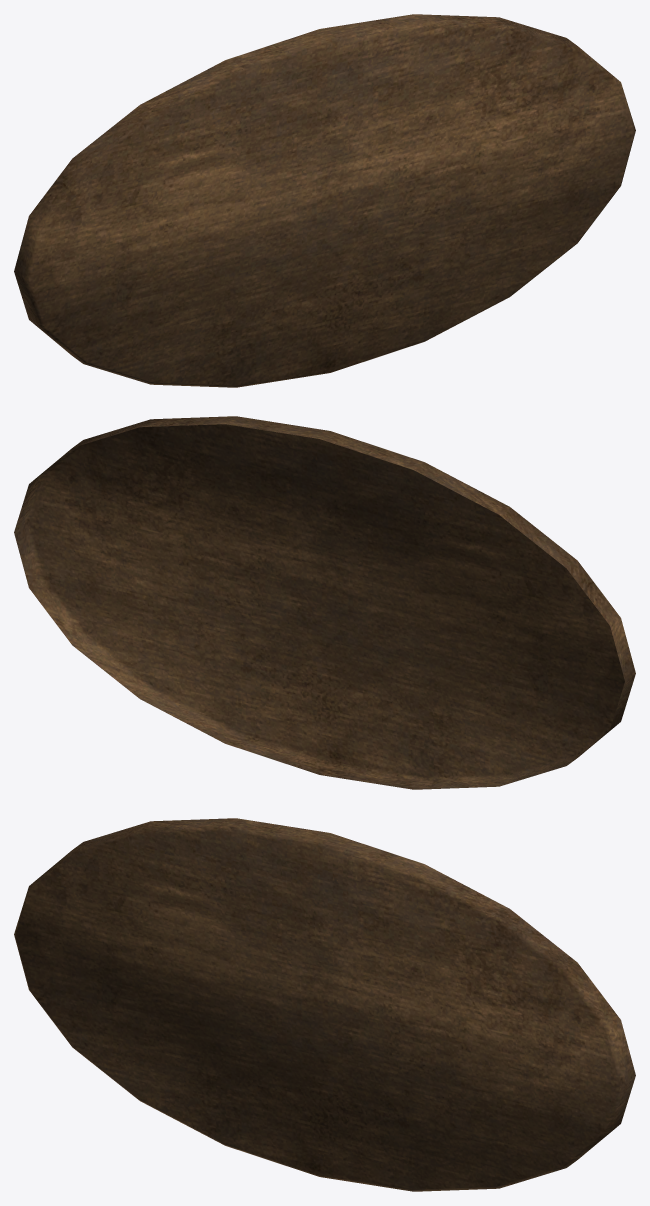
File: roomSignWood.FBX
The picture shows the model from 3 angles, top to bottom: view 1: azimuth 30°, elevation 25°; view 2: azimuth 150°, elevation 25°; view 3: azimuth 330°, elevation 25°; orthographic projection.
Visible parts, largest first — view 1: SM_RoomSignWood; view 2: SM_RoomSignWood; view 3: SM_RoomSignWood.
Part boxes in pixels (x1,y1,x2,y2): SM_RoomSignWood: [14, 14, 635, 387]; SM_RoomSignWood: [14, 416, 635, 789]; SM_RoomSignWood: [14, 818, 635, 1191].
Bounding box in the file's own units: 27.44 × 14.42 × 1.
1 material, 1 textured.
